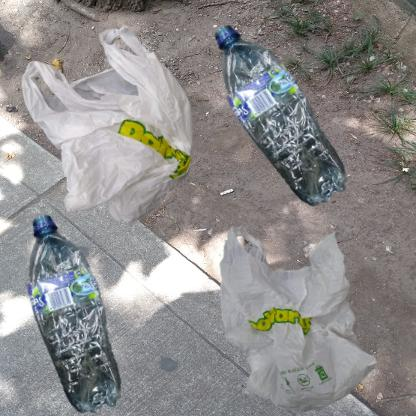bolsa: (10, 10, 246, 272), (213, 213, 384, 416)
botella: (213, 10, 360, 233), (10, 213, 148, 416)
